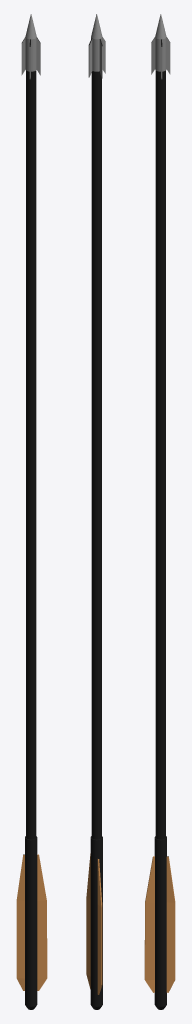
File: flecha.fbx
3 views of the same model, side by side, from view 1: azimuth 90°, elevation 25°; view 2: azimuth 210°, elevation 25°; view 3: azimuth 270°, elevation 25° (orthographic).
Parts seen in each view (by area): view 1: flecha; view 2: flecha; view 3: flecha.
Part boxes in pixels (box(x1,y1,x2,y2)): flecha: box(16, 14, 47, 1009); flecha: box(86, 14, 105, 1009); flecha: box(144, 14, 175, 1009).
Size of the model in its own units: 2.75 by 157 by 4.41.
